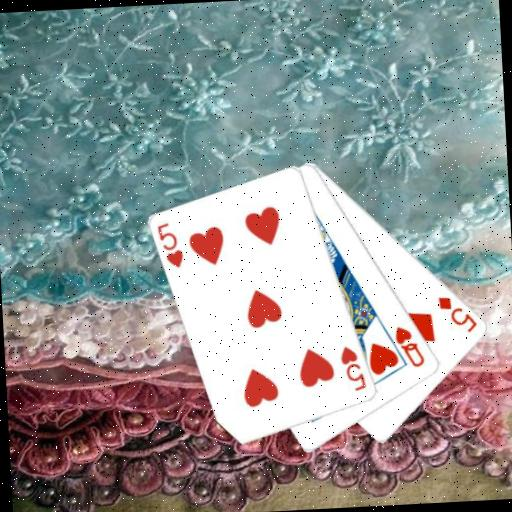5D: (435, 292, 480, 337)
5H: (154, 219, 186, 271), (338, 342, 369, 394)
QH: (392, 322, 428, 371)
